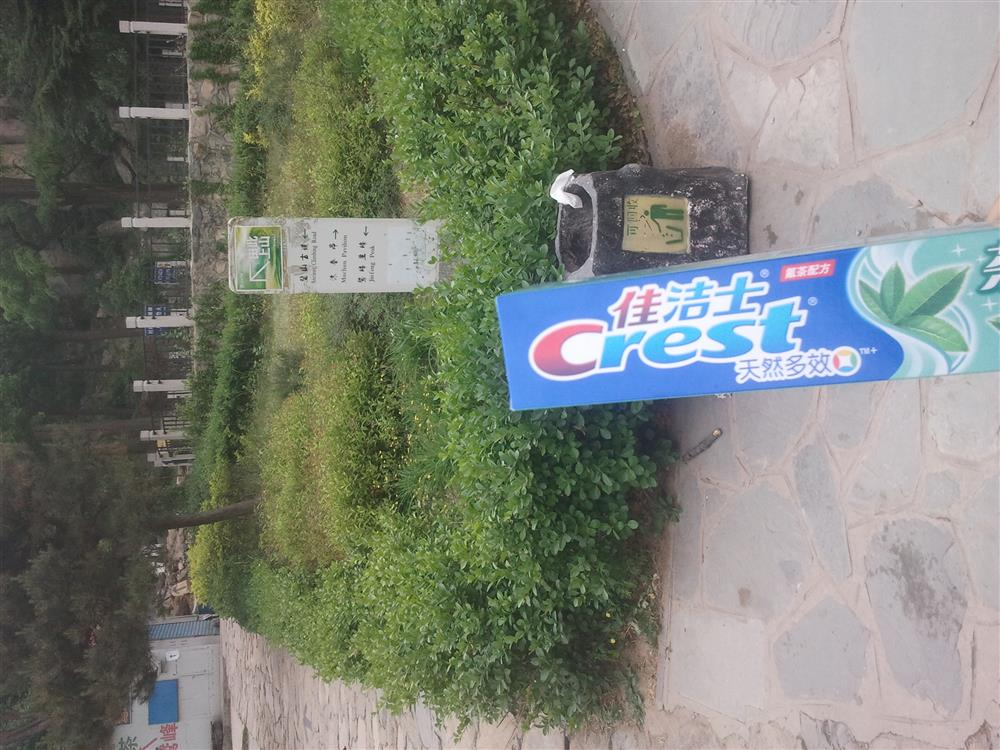crest: (460, 179, 995, 452)
